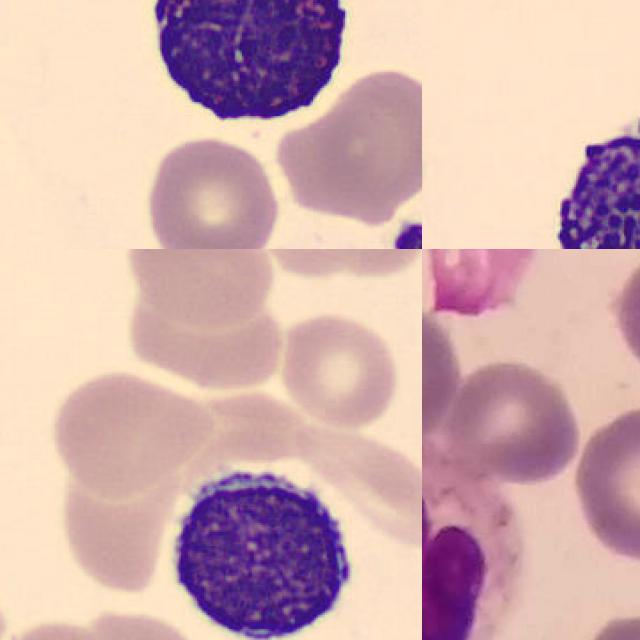Basophil: (130, 0, 361, 135), (528, 86, 640, 249)
Lymphocyte: (154, 450, 364, 640)
Neutrophil: (422, 443, 525, 640)
Platelets: (389, 216, 422, 249)
RBC: (273, 61, 422, 223), (44, 365, 215, 497), (121, 278, 291, 395), (294, 415, 422, 554), (139, 131, 283, 249), (276, 308, 402, 432), (122, 249, 278, 325), (248, 249, 422, 285)
